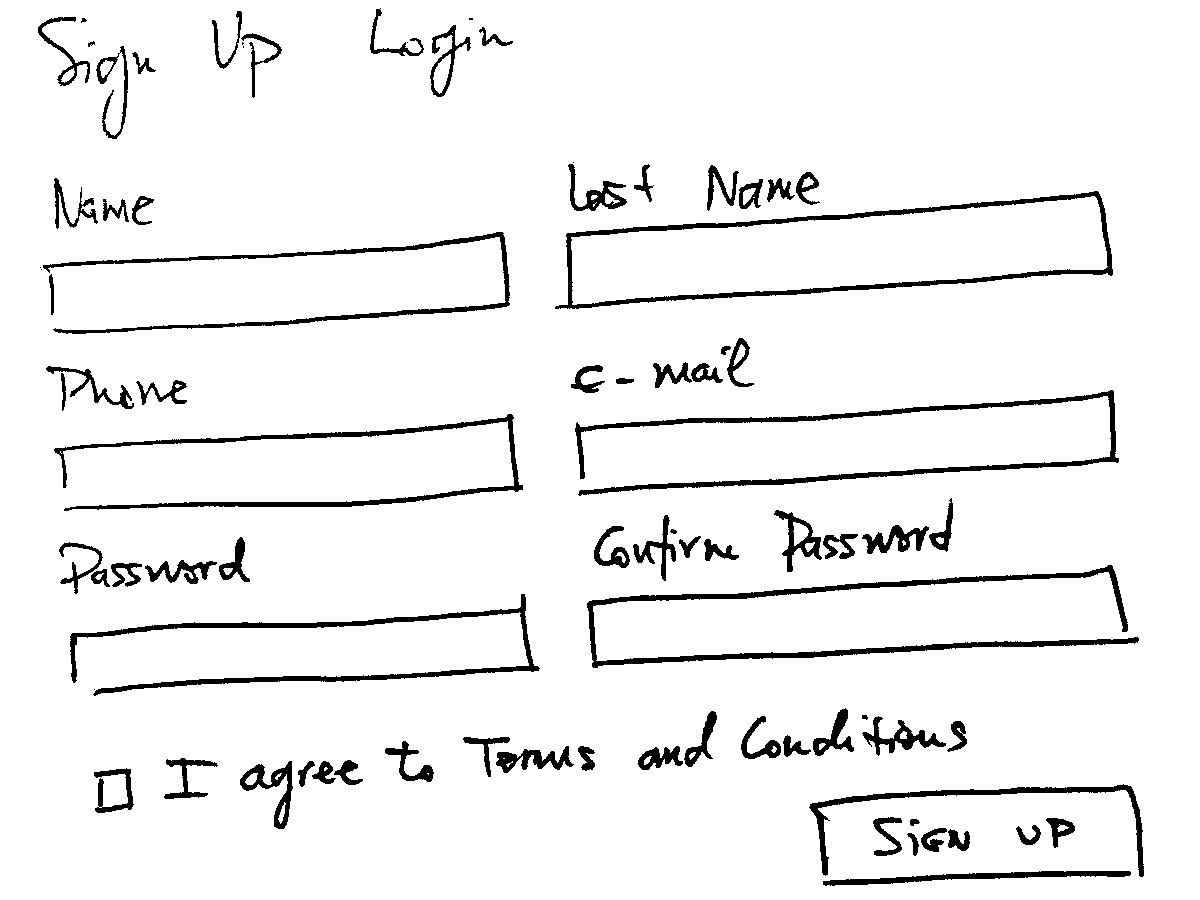Button: (804, 779, 1151, 889)
Check Box: (92, 728, 604, 831)
Textbox: (560, 192, 1117, 313), (586, 562, 1148, 673), (573, 388, 1123, 498), (39, 231, 514, 339), (54, 414, 526, 517), (67, 598, 544, 697)
